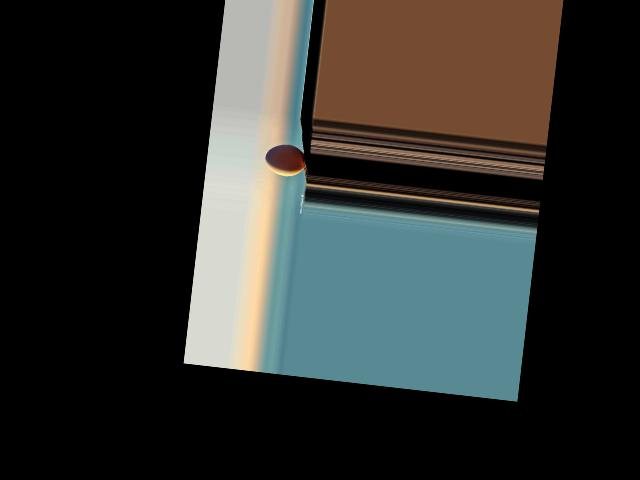egg: (263, 142, 306, 178)
